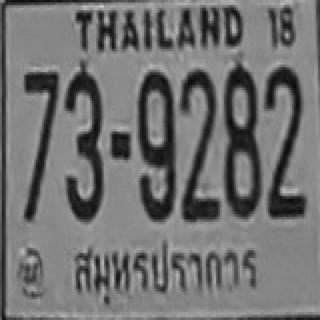N02: (264, 67, 302, 196), (263, 64, 301, 191), (180, 98, 218, 219), (266, 93, 304, 214), (180, 70, 216, 196)
N03: (63, 67, 103, 219)
N07: (22, 70, 58, 165), (22, 71, 58, 154)
N08: (224, 63, 260, 215)
N09: (136, 70, 174, 219), (138, 83, 174, 219)
P57: (61, 232, 269, 315)
